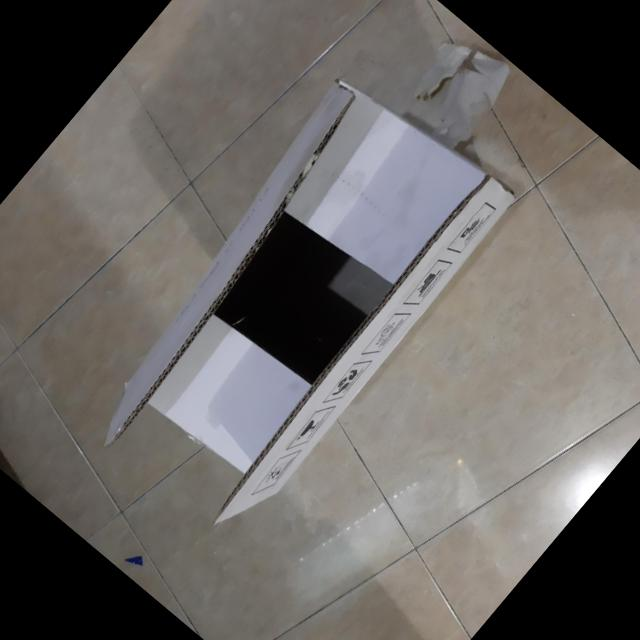Kardus: (58, 56, 524, 552)
